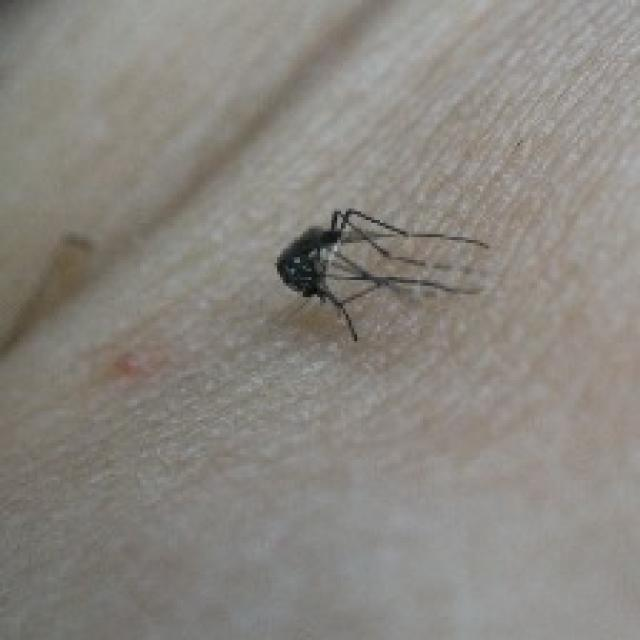aedes: (272, 203, 488, 343)
